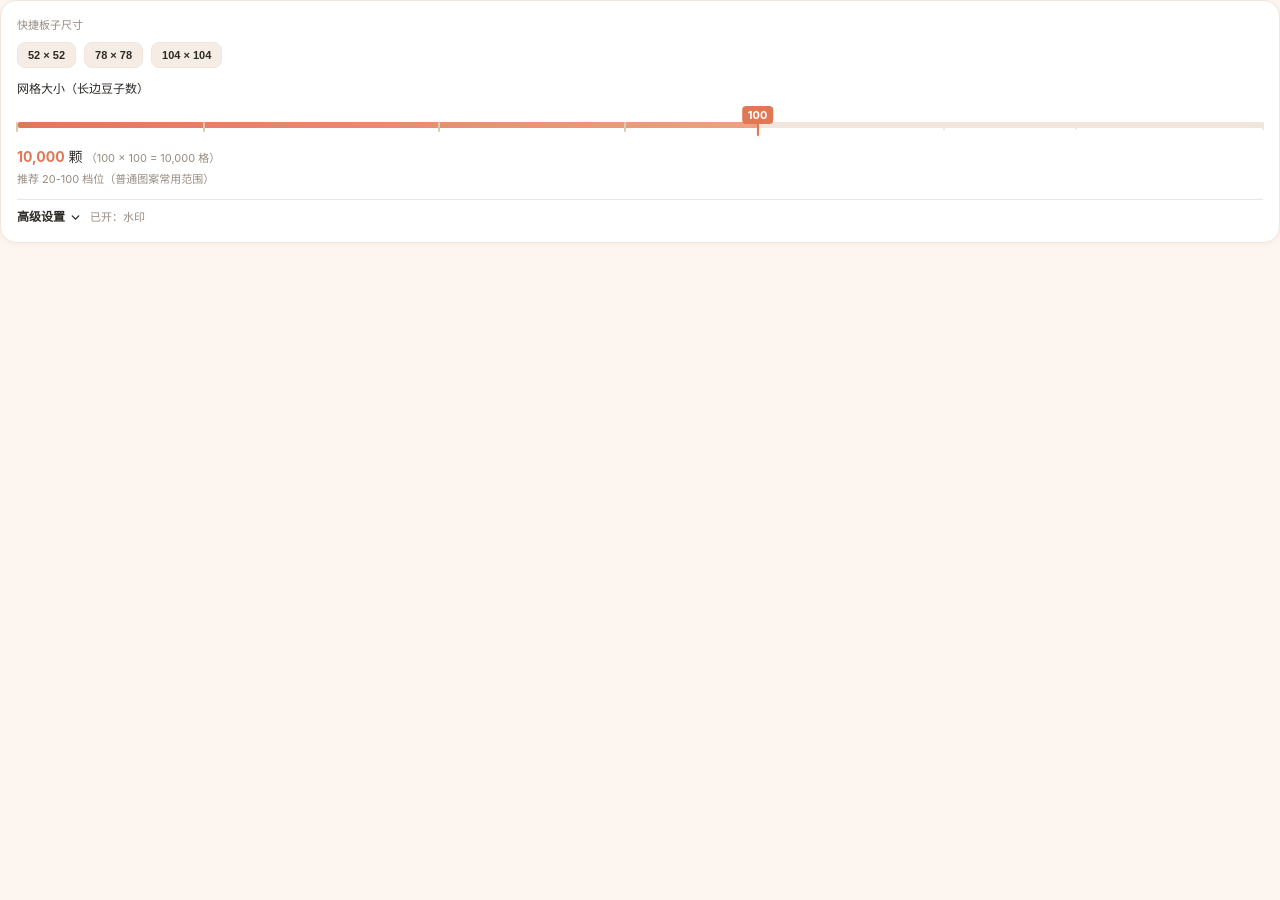
it: ParamPanel › opens the advanced fold on summary click and exposes every control
Click the heading "高级设置 已开：水印": (81, 216) [17,209,145,224]
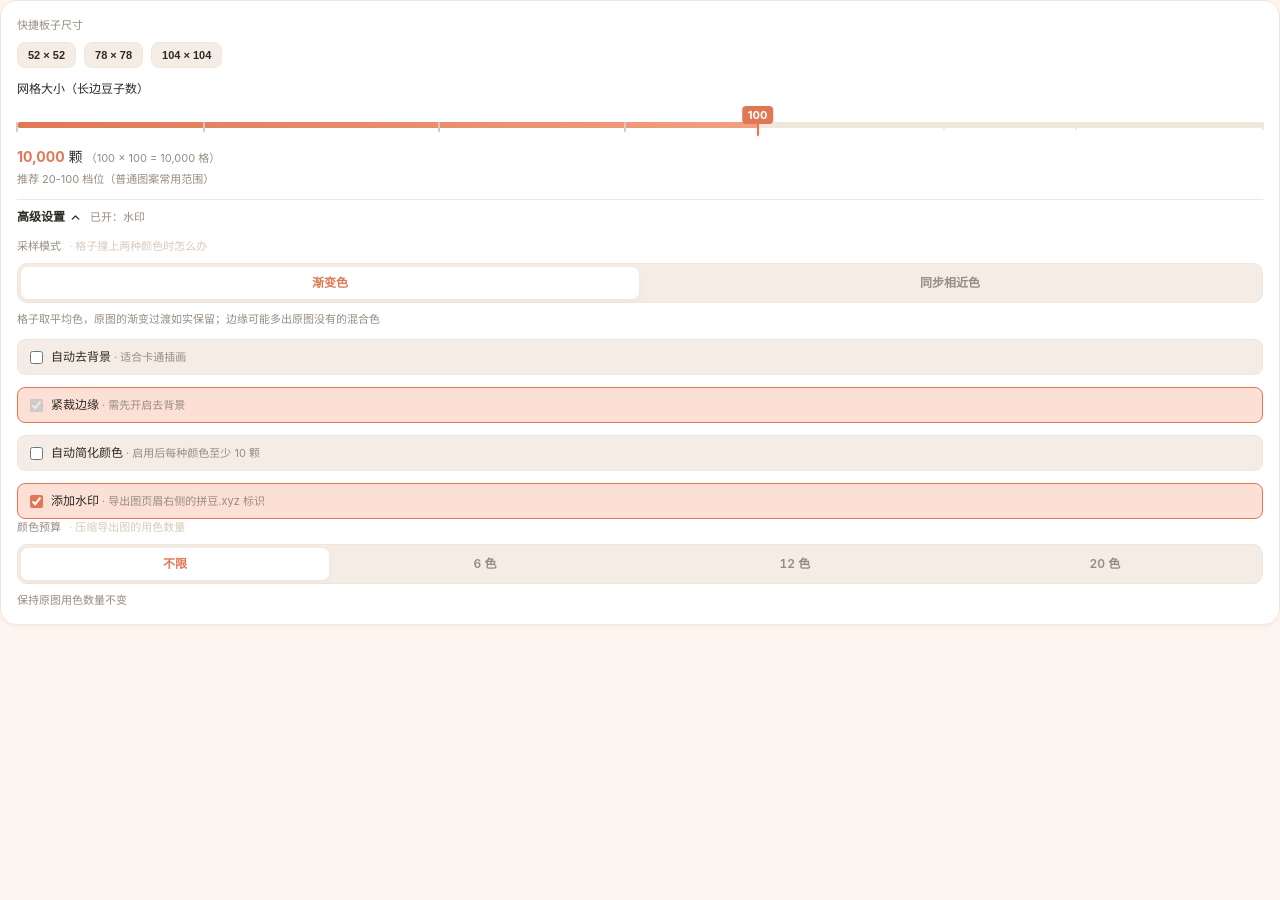
Check: the radio button labelled "渐变色" is shown, box [21,266,639,298]
Check: the radio button labelled "同步相近色" is shown, box [920,274,980,290]
Check: the checkbox labelled "自动去背景 · 适合卡通插画" is shown, box [30,350,43,364]
